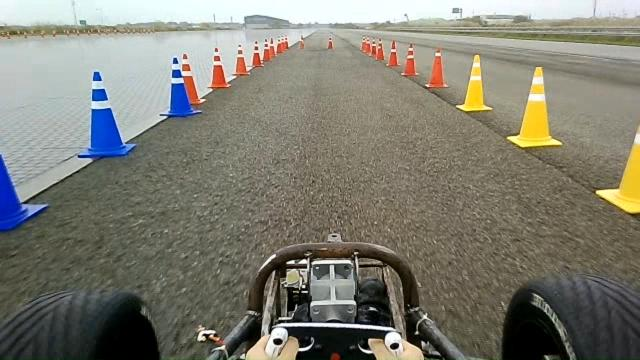blue cone: (77, 70, 136, 159), (0, 153, 49, 231), (159, 56, 202, 117)
red cone: (180, 52, 206, 104), (424, 47, 449, 89), (207, 46, 231, 89), (401, 42, 419, 77), (232, 43, 250, 76), (386, 39, 400, 67), (251, 40, 264, 67), (374, 37, 385, 61)
yellow cone: (506, 65, 563, 148), (595, 124, 639, 215), (455, 54, 493, 112)
